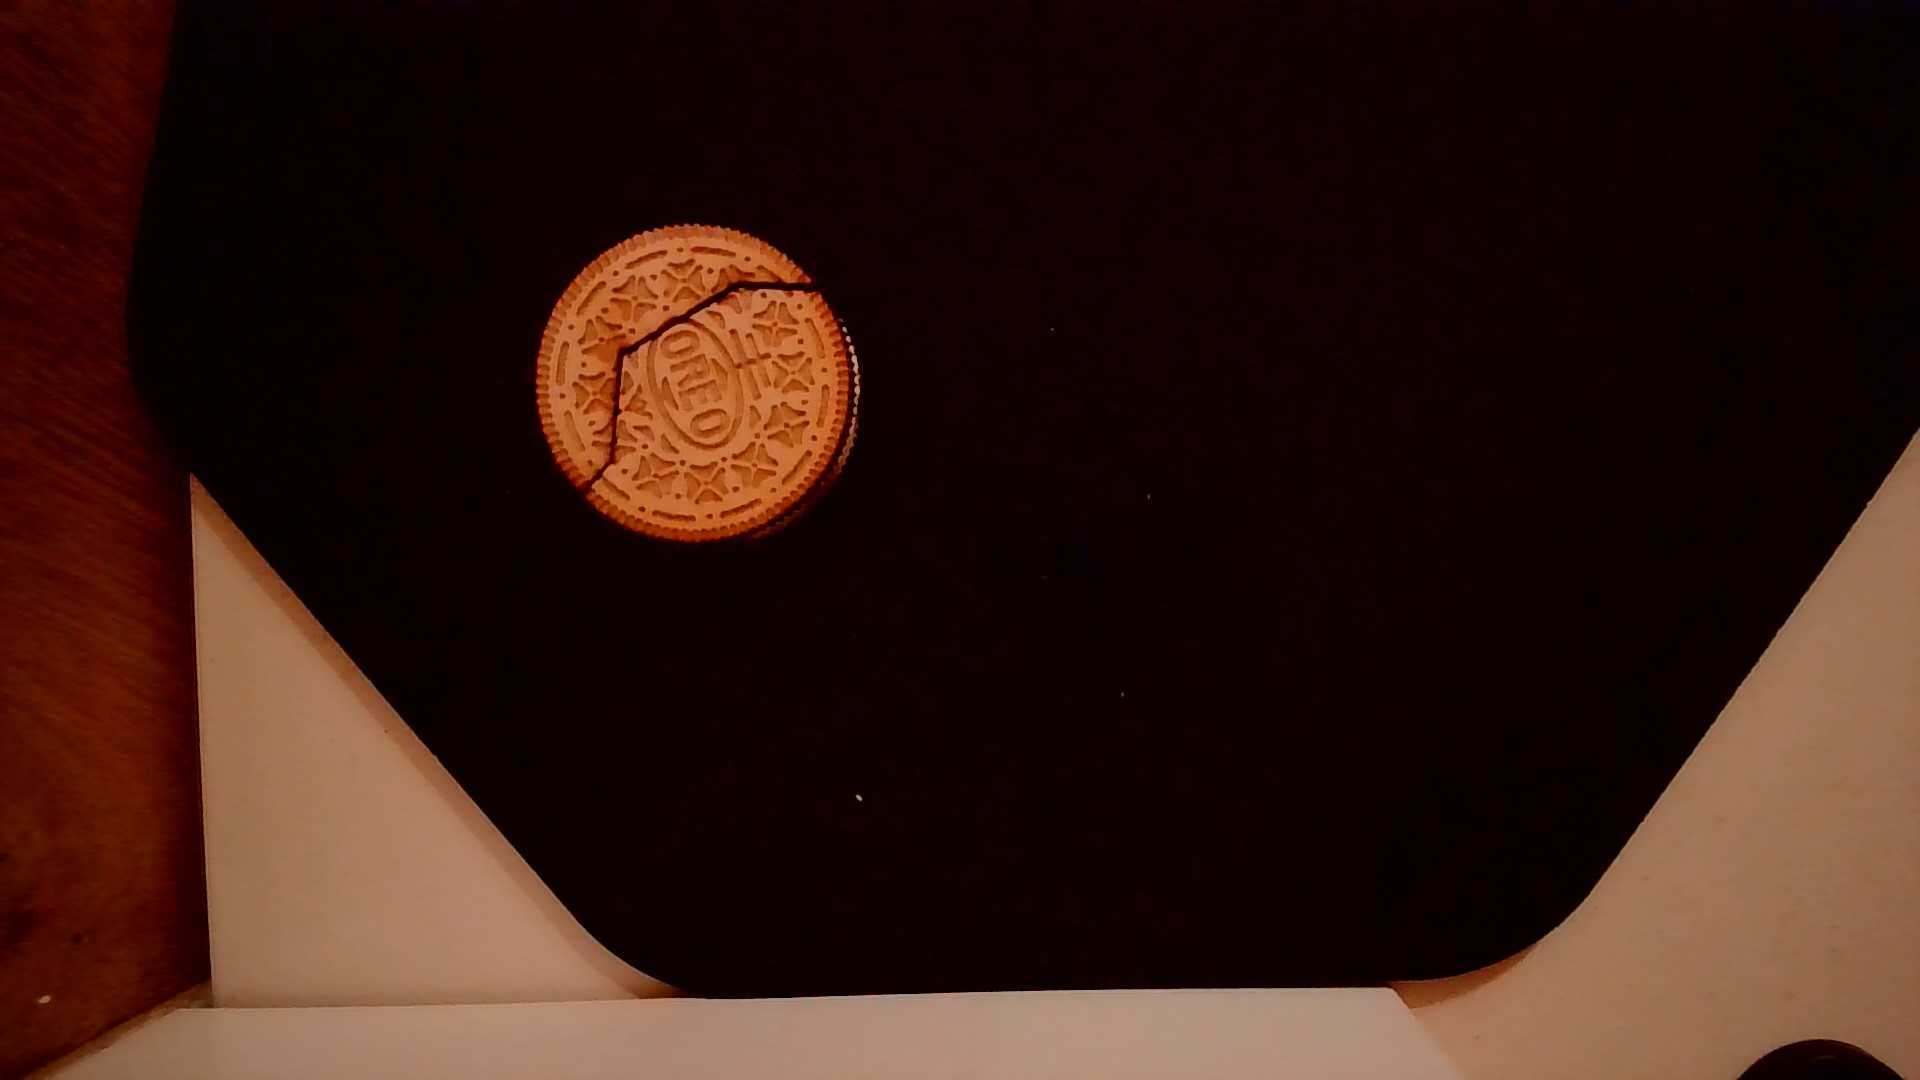Fissure: (568, 274, 835, 506)
Oréo: (527, 218, 864, 550)
